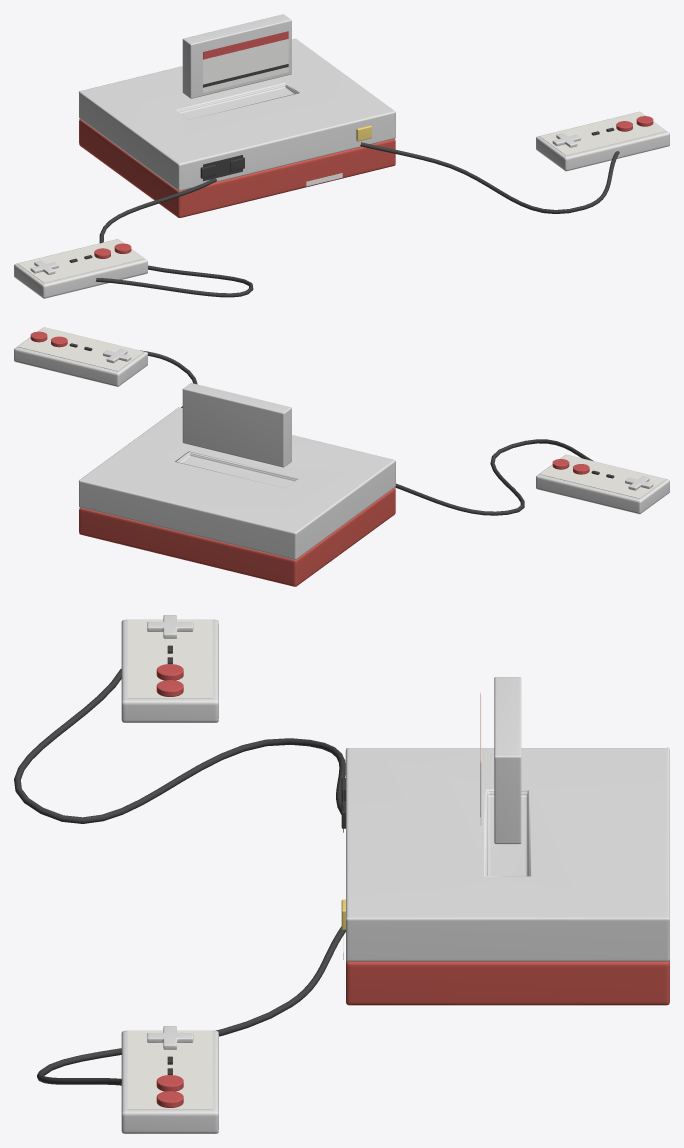
Rendered from 01_Famicom.glb.
The picture shows the model from 3 angles, top to bottom: view 1: azimuth 30°, elevation 25°; view 2: azimuth 150°, elevation 25°; view 3: azimuth 270°, elevation 25°; orthographic projection. The views are drawn at different scales.
Visible parts, largest first — view 1: FC_Top, FC_Bottom, Cartridge, CartLabel, Ctrl2_Body, Ctrl1_Body, Ctrl2_WhitePlate, Ctrl1_WhitePlate, Cable1, Cable2, CartTitle, FrontPlate; view 2: FC_Top, FC_Bottom, Cartridge, Ctrl2_Body, Ctrl1_Body, Ctrl1_WhitePlate, Ctrl2_WhitePlate, Cable1; view 3: FC_Top, FC_Bottom, Ctrl2_WhitePlate, Ctrl1_WhitePlate, Cartridge, Cable1, Ctrl1_Body, Ctrl2_Body, Cable2.
Boxes of the visible parts, box(x1,y1,x2,y2) form: FC_Top: box(78, 38, 395, 191); FC_Bottom: box(79, 119, 395, 217); Cartridge: box(182, 14, 291, 98); CartLabel: box(203, 39, 288, 92); Ctrl2_Body: box(536, 111, 669, 171); Ctrl1_Body: box(14, 239, 147, 298); Ctrl2_WhitePlate: box(540, 112, 665, 155); Ctrl1_WhitePlate: box(18, 239, 143, 283); Cable1: box(96, 178, 253, 297); Cable2: box(360, 142, 619, 213); CartTitle: box(203, 31, 288, 59); FrontPlate: box(203, 155, 242, 181); FC_Top: box(78, 407, 395, 559); FC_Bottom: box(79, 488, 395, 586); Cartridge: box(182, 383, 291, 467); Ctrl2_Body: box(14, 327, 147, 386); Ctrl1_Body: box(536, 454, 669, 514); Ctrl1_WhitePlate: box(539, 455, 665, 498); Ctrl2_WhitePlate: box(18, 327, 143, 371); Cable1: box(395, 439, 593, 515); FC_Top: box(345, 747, 669, 961); FC_Bottom: box(346, 960, 669, 1005); Ctrl2_WhitePlate: box(127, 1030, 212, 1109); Ctrl1_WhitePlate: box(127, 619, 212, 698); Cartridge: box(494, 677, 521, 844); Cable1: box(14, 668, 345, 823); Ctrl1_Body: box(121, 619, 218, 722); Ctrl2_Body: box(121, 1030, 218, 1133); Cable2: box(37, 926, 345, 1085).
Bounding box in the file's own units: 8.65 × 1.71 × 4.86.
